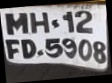character: (4, 12, 28, 34), (74, 9, 93, 33), (29, 11, 49, 33), (45, 38, 63, 58), (61, 37, 77, 59), (77, 38, 92, 61), (92, 40, 106, 64), (5, 39, 20, 59), (21, 39, 36, 59), (62, 10, 75, 33)
